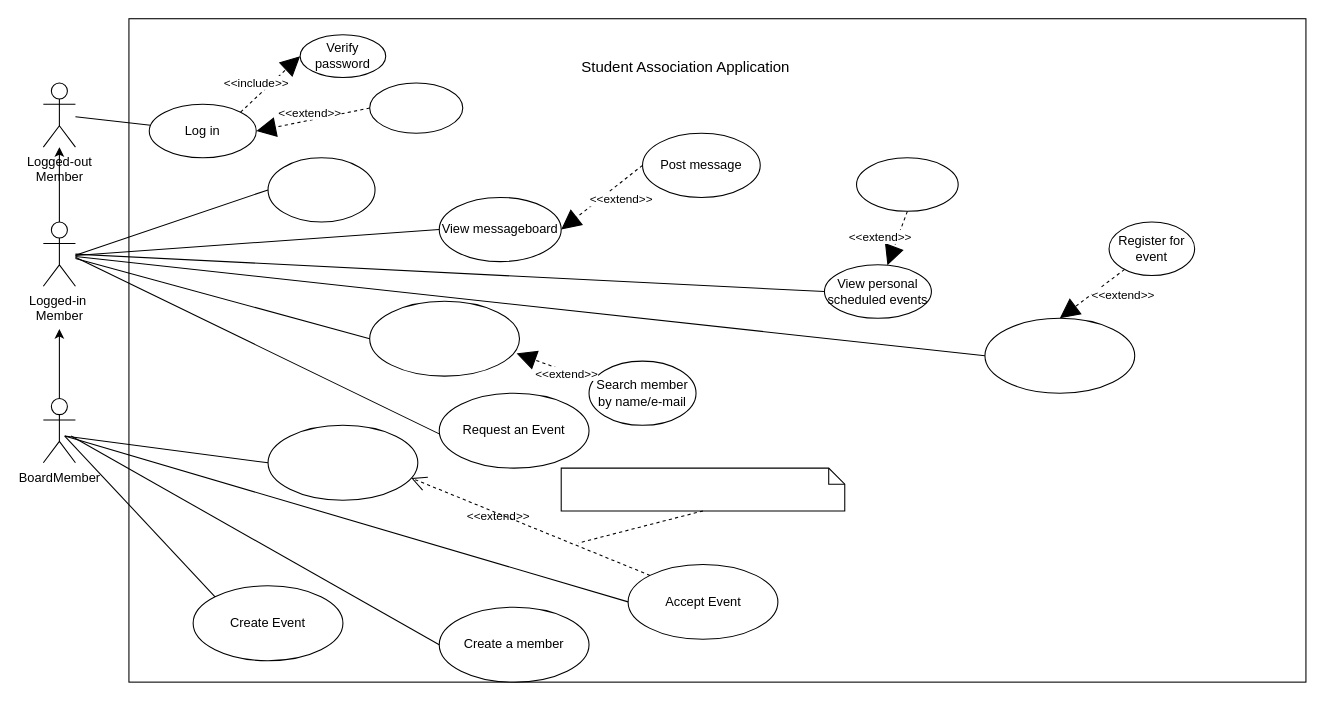
Image size: 1325x701. Some labels were removed from this diagram. Here are the shapes that lost their labels. From the top down, the centre of each, then its label:
At (x=416, y=107): "Display login error".
At (x=321, y=189): "Change password".
At (x=906, y=184): "Cancel participation for event".
At (x=444, y=338): "View Members".
At (x=1059, y=355): "View event schedule".
At (x=342, y=462): "Create Event From Requested Events".
At (x=702, y=489): "Condition: Requested events available = true".
